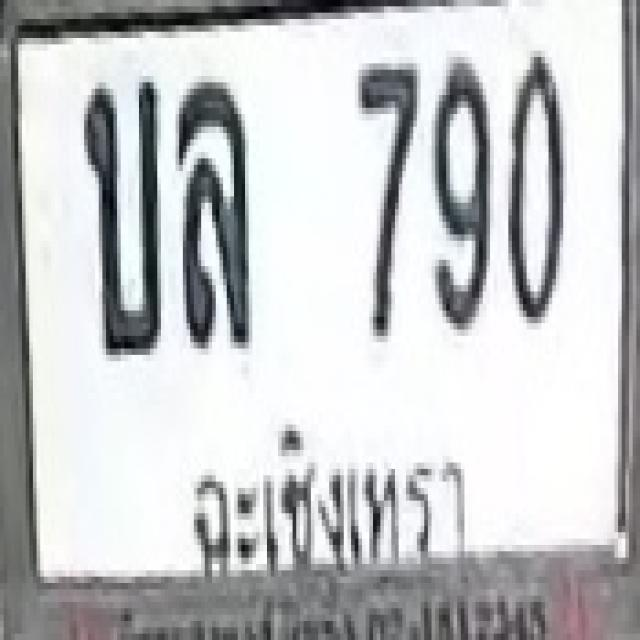0: (505, 48, 563, 320)
7: (355, 57, 417, 336)
9: (432, 57, 486, 330)
A26: (80, 76, 161, 355)
A36: (175, 76, 252, 349)
CCO: (185, 418, 475, 580)
